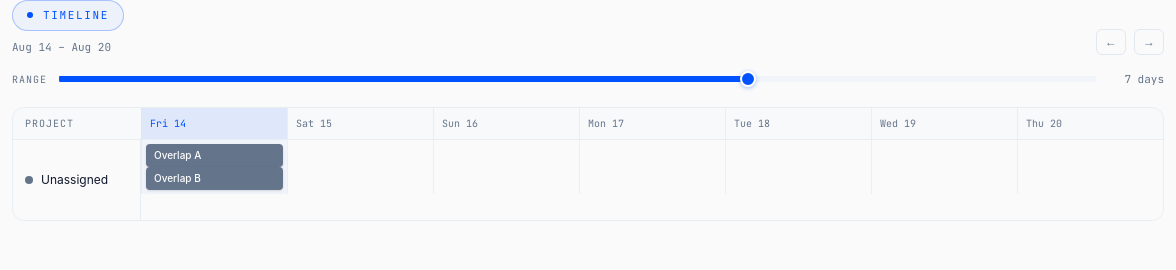
it: Today dashboard timeline › stacks tasks that share a time slot instead of overlapping them
The image size is (1176, 270).
Expected: the button "Overlap A" is shown, [146,144,283,167]
Set the slider named "Timeline range" to "0" at (67, 79), box [59,67,1096,91]
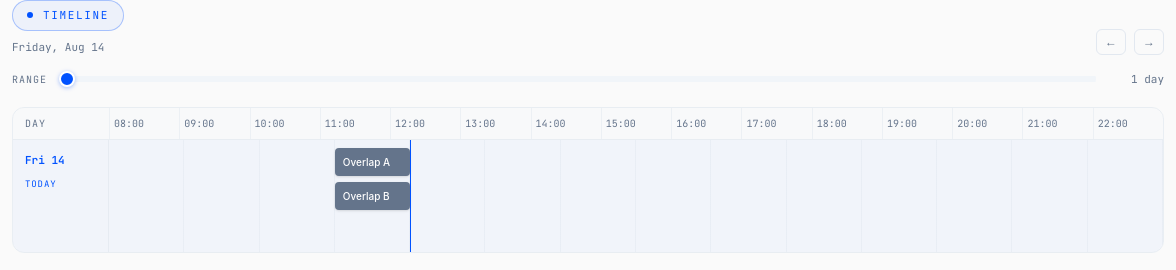
Now the number of buttons with test id "timeline-bar" is 2, box [335,148,410,176]; [335,182,410,210]
